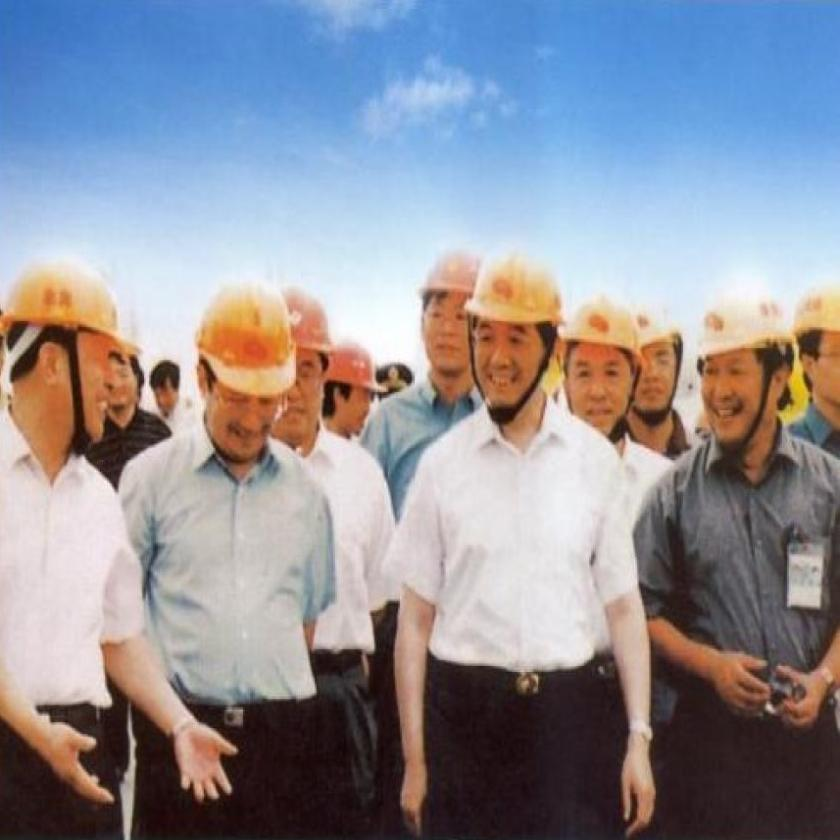Con_casco: (9, 247, 122, 457), (692, 270, 804, 475), (192, 266, 295, 464), (465, 252, 565, 432), (560, 279, 644, 458), (278, 266, 337, 473), (325, 330, 386, 455)
